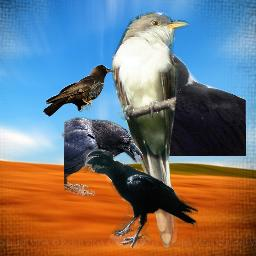Crow: (136, 50, 246, 156), (84, 149, 198, 248), (64, 117, 144, 196), (43, 63, 116, 119)
Cuckoo: (112, 11, 189, 250)
